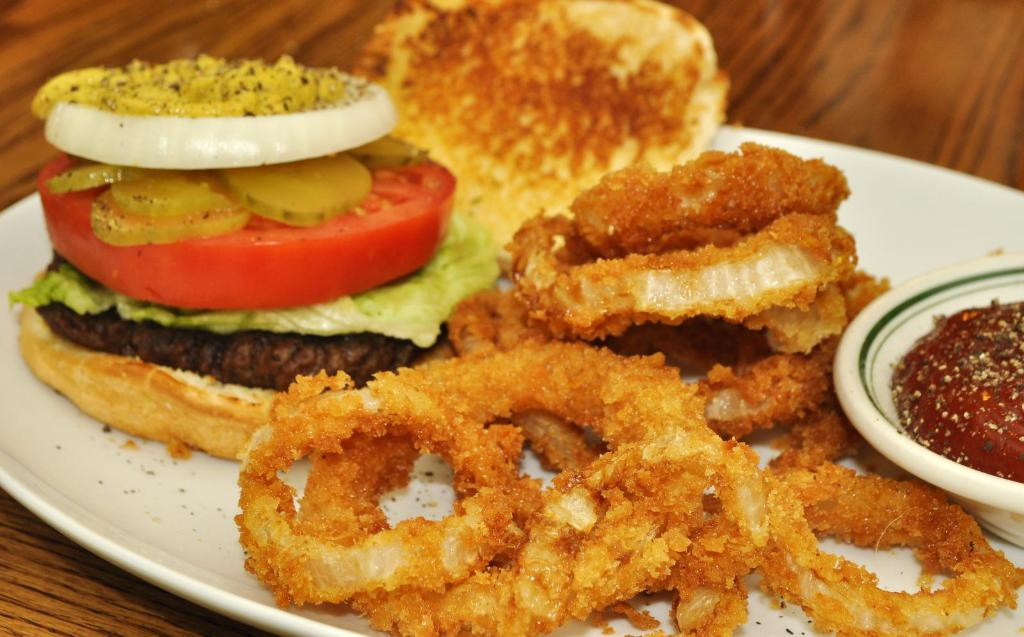sandwich: (10, 0, 735, 460)
